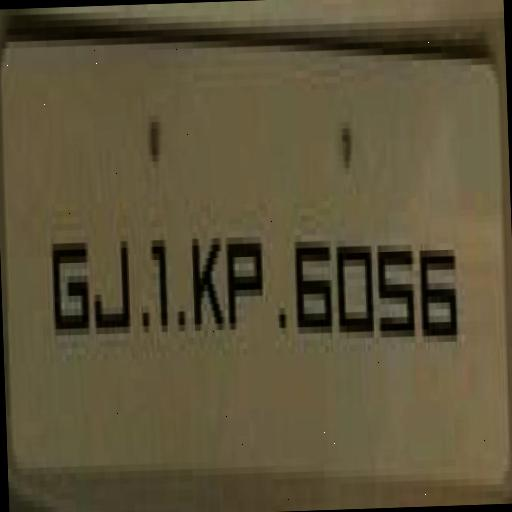number plate: (0, 5, 501, 482)
